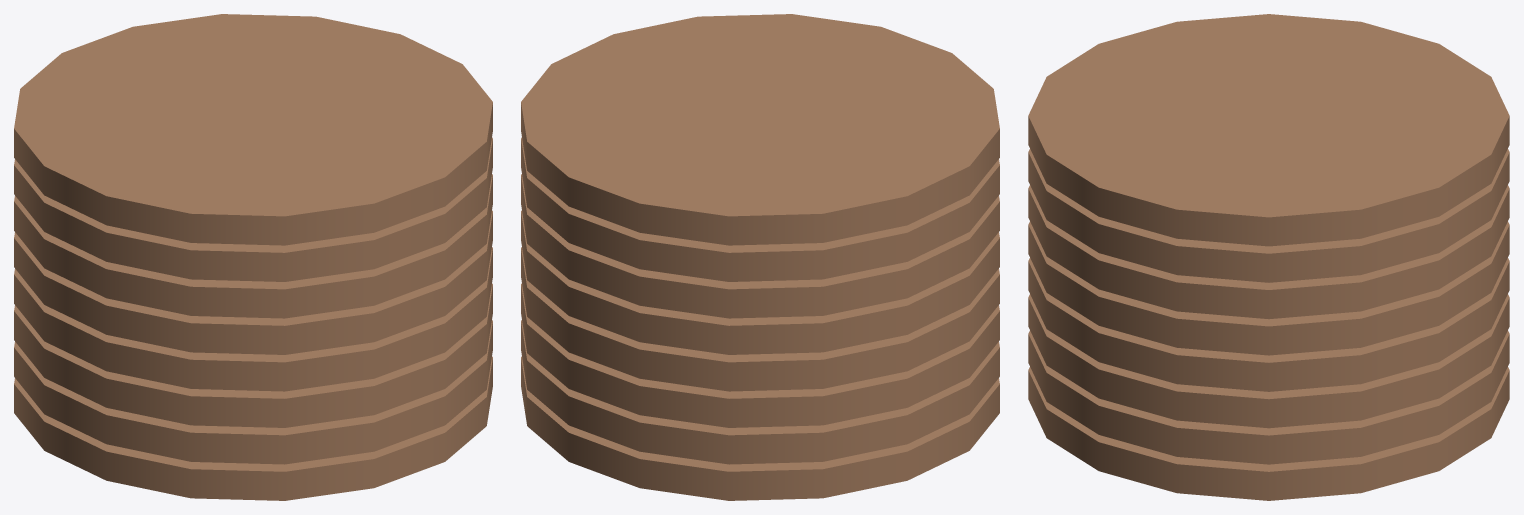
File: scavengers-loot-library-coin-stack-8e4590ba__2654.glb
The picture shows the model from 3 angles, left to right: view 1: azimuth 30°, elevation 25°; view 2: azimuth 150°, elevation 25°; view 3: azimuth 270°, elevation 25°; orthographic projection.
Parts seen in each view (by area): view 1: coin-stack; view 2: coin-stack; view 3: coin-stack.
Part boxes in pixels (<box>): coin-stack: <box>14,14,492,500</box>; coin-stack: <box>521,14,999,500</box>; coin-stack: <box>1028,14,1509,500</box>.
Bounding box in the file's own units: 0.03 × 0.0195 × 0.03.
